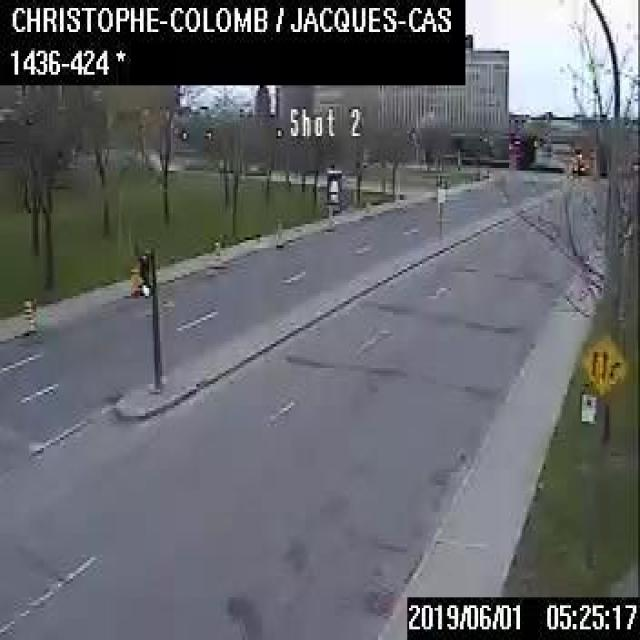construction: (21, 296, 36, 333), (127, 256, 140, 296), (213, 238, 220, 264), (274, 220, 281, 246)
